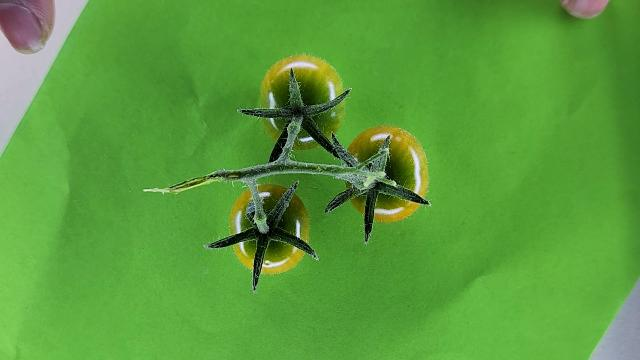Fully Grown: (259, 54, 346, 150), (343, 126, 430, 222), (228, 184, 309, 274)
